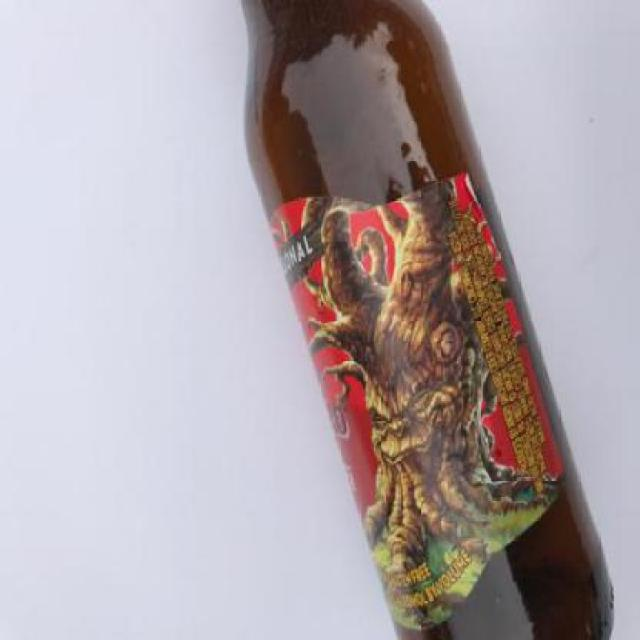kaca: (238, 0, 612, 638)
